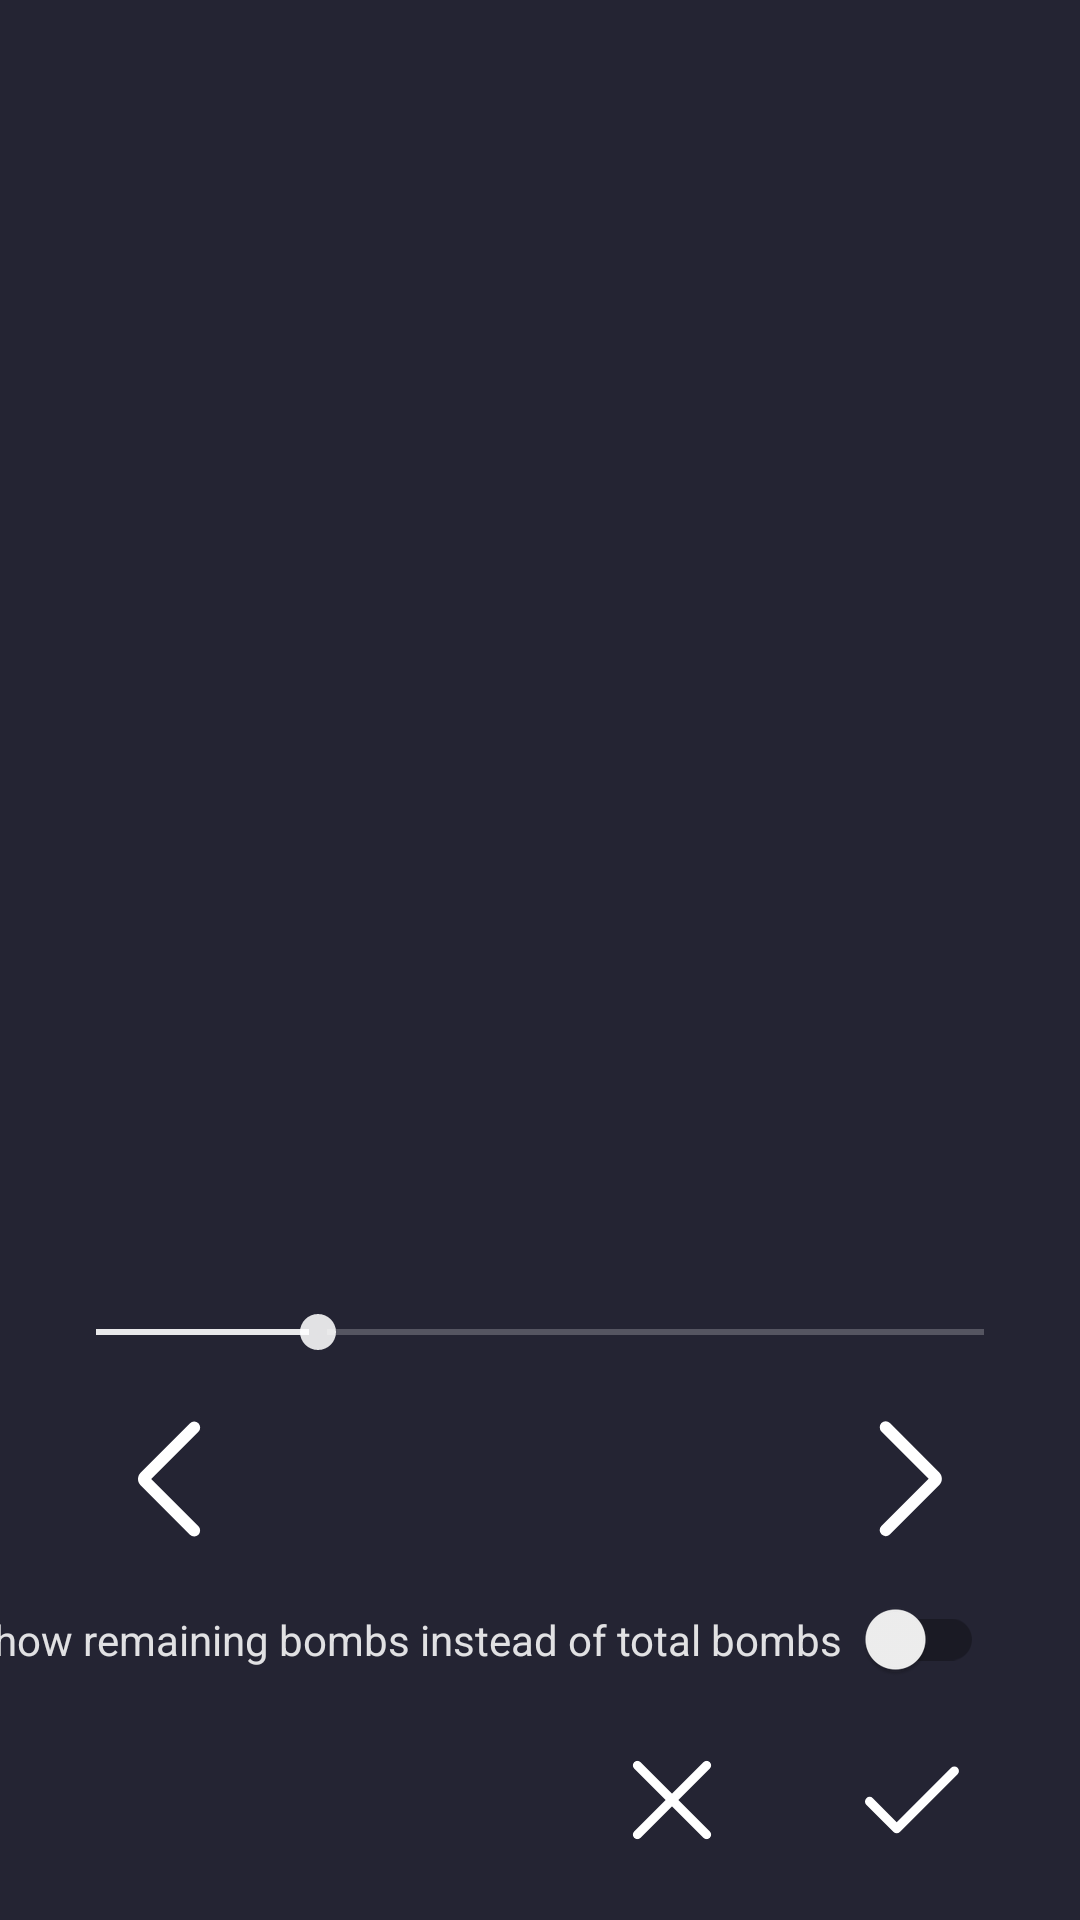

Icon click points for this 1080px x 1920px phone screenshot, format (x,y):
arrow back: (169,1479)
arrow forward: (910,1479)
check: (912,1800)
close: (672,1800)
